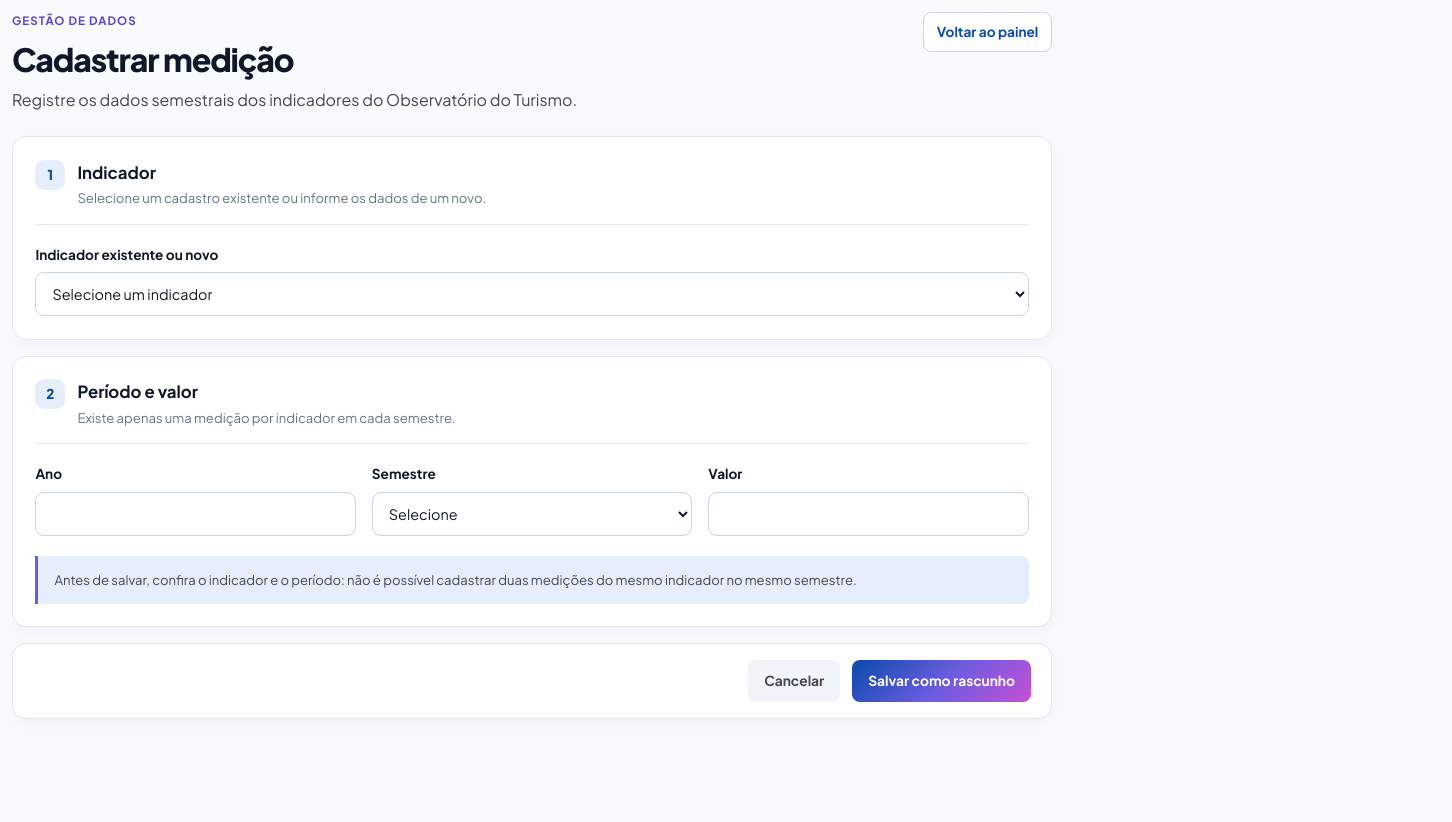
Scenario: AdminMedicaoFormPage › recusa ano fora do intervalo aceito pela API antes de enviar
The image size is (1452, 822).
Expected: the heading "Cadastrar medição" is shown, x1=12 y1=39 x2=294 y2=79
Select "Número de leitos (Hospedagem)" in the dropdown labelled "Indicador": (532, 294) x1=35 y1=272 x2=1029 y2=316
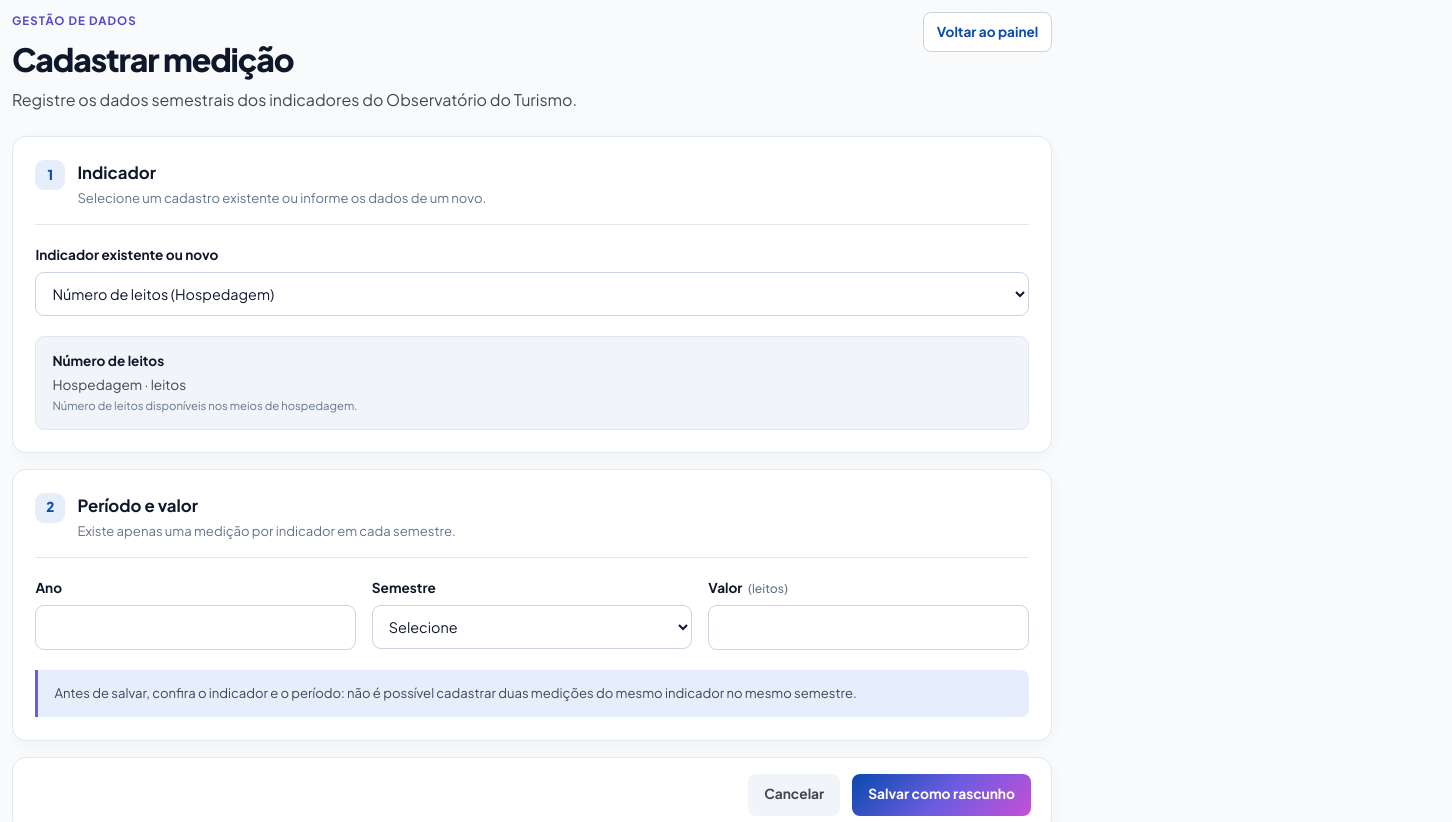
In the number field labelled "Ano": (196, 627) x1=35 y1=605 x2=356 y2=650, type "0000"
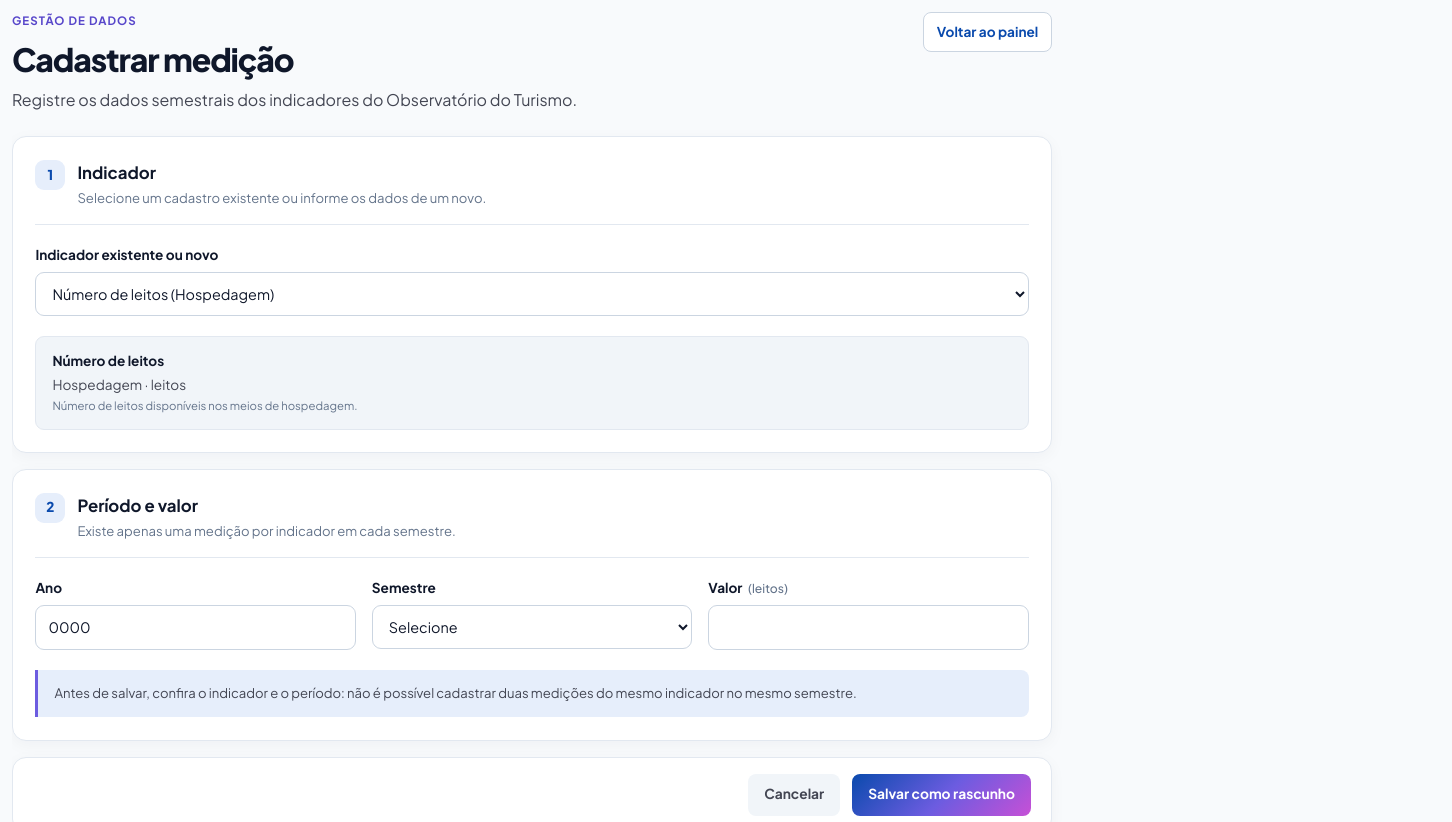
Select "2º semestre" in the dropdown labelled "Semestre": (532, 627) x1=372 y1=605 x2=692 y2=649
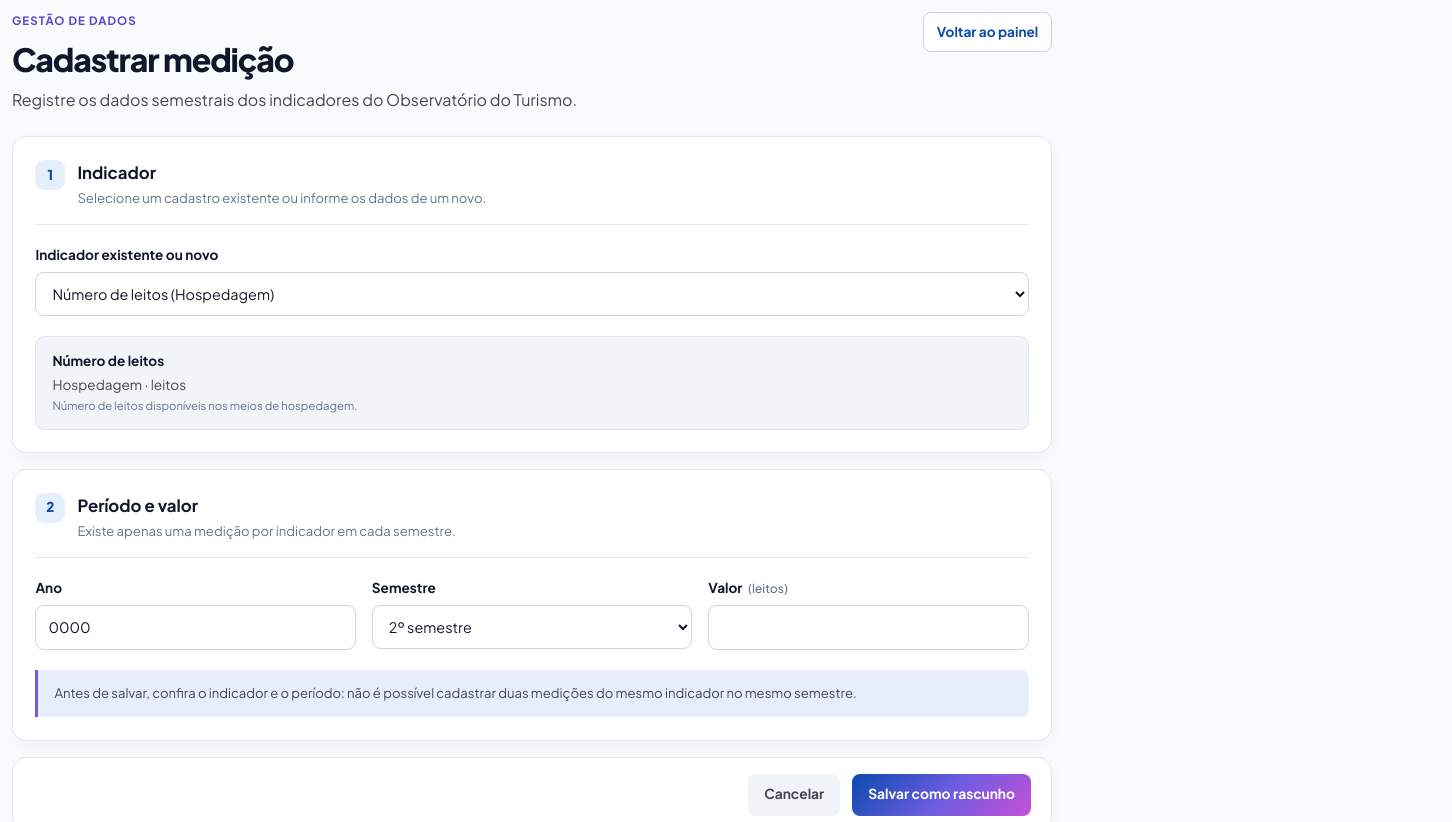
In the number field labelled "Valor": (868, 627) x1=708 y1=605 x2=1029 y2=650, type "350"
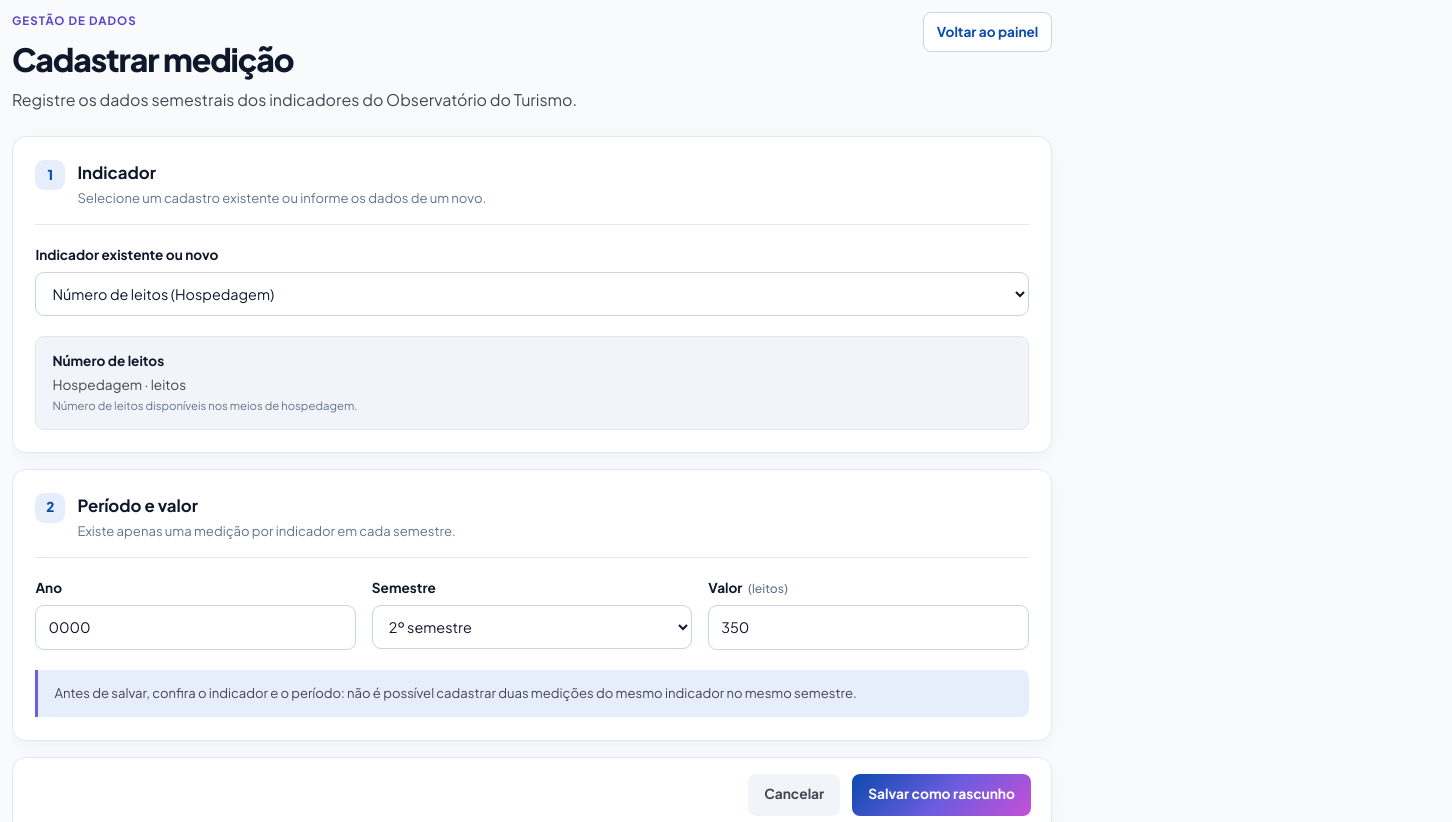
Click the button "Salvar como rascunho": click(942, 794) x1=852 y1=774 x2=1031 y2=816
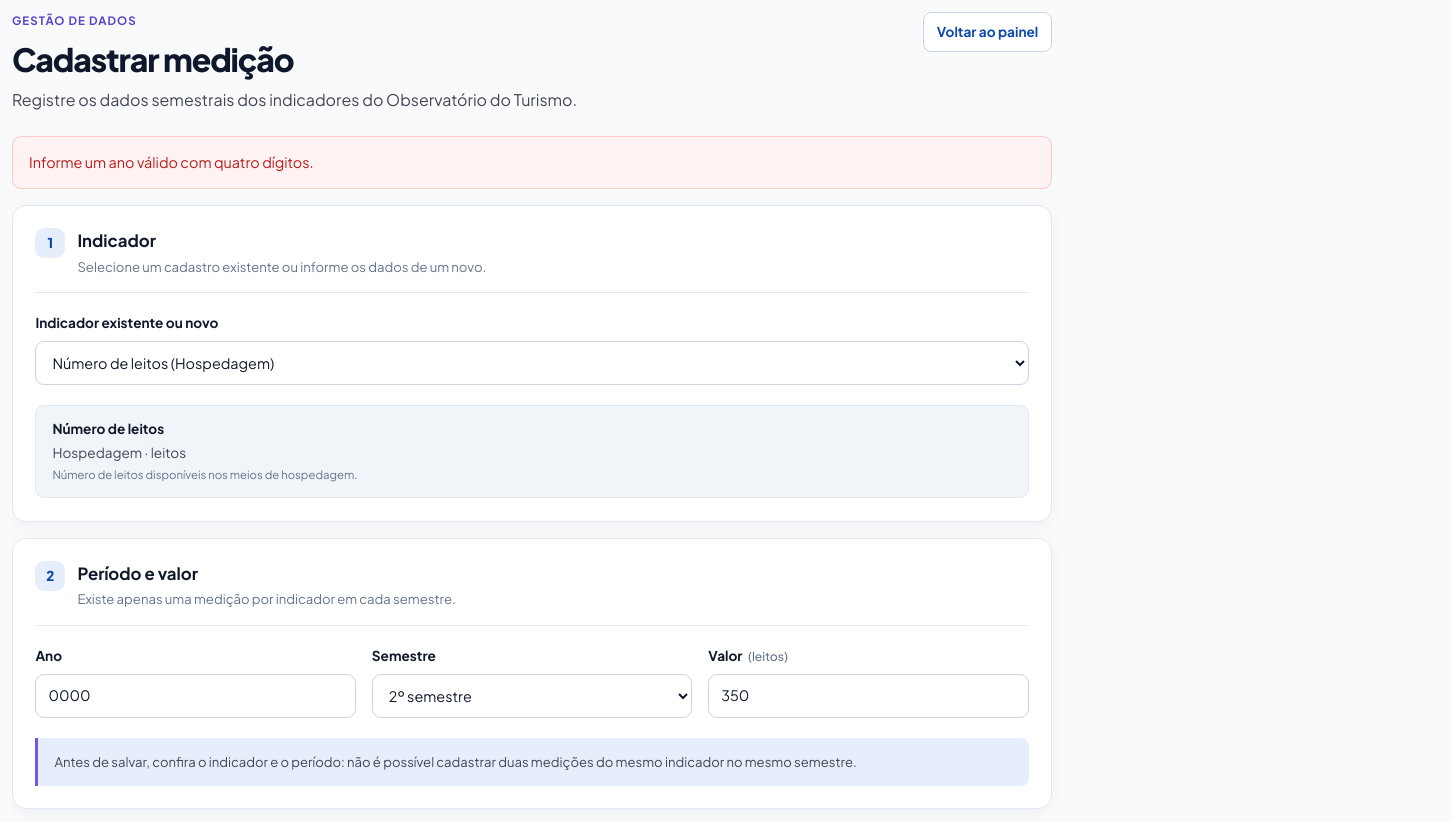
Expected: the message shows "Informe um ano válido", x1=29 y1=153 x2=314 y2=171
